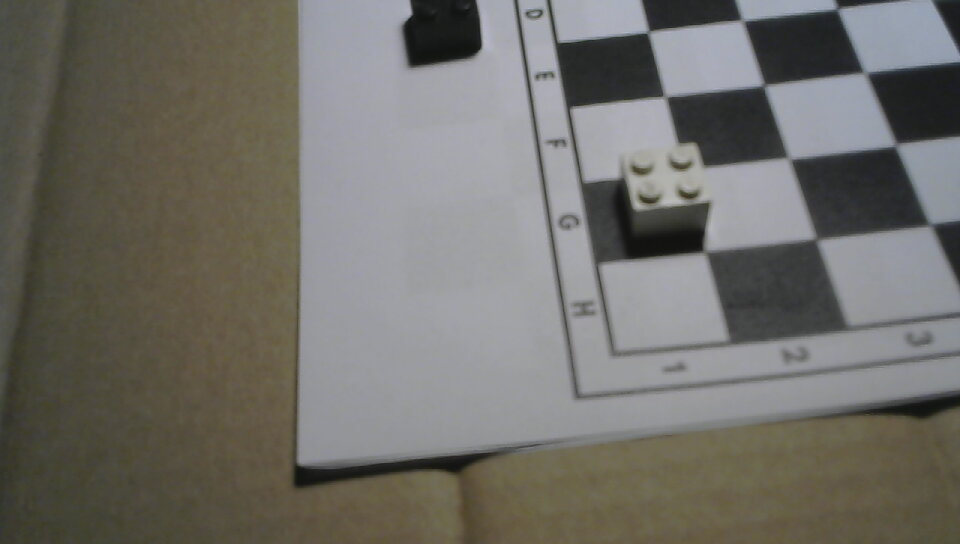wp: (610, 138, 719, 244)
